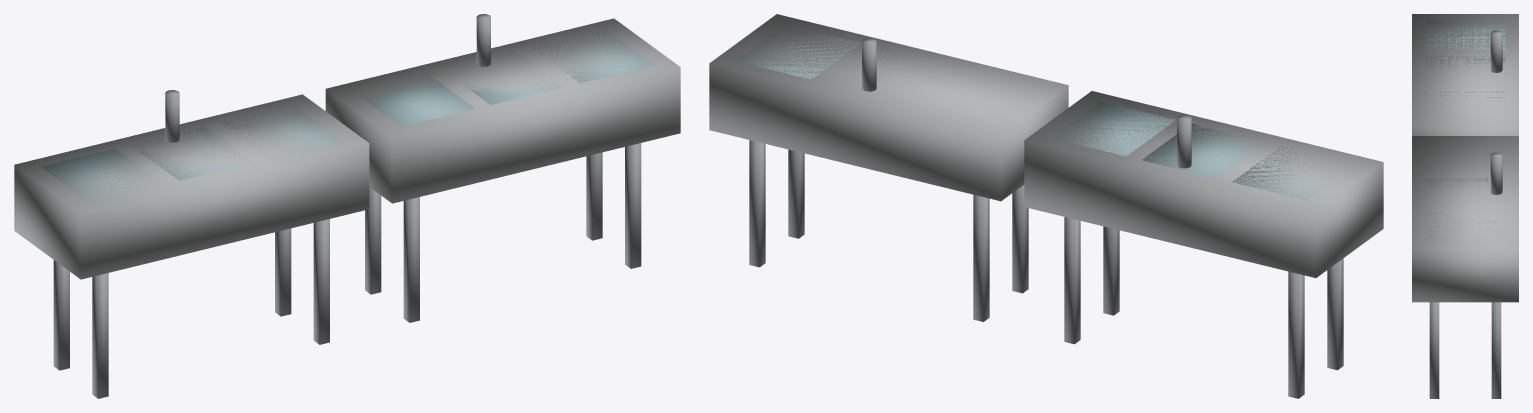
File: three_bay_sink__cluster.glb
3 renders of one model, left to right at view 1: azimuth 30°, elevation 25°; view 2: azimuth 150°, elevation 25°; view 3: azimuth 270°, elevation 25°, orthographic. The views are drawn at different scales.
Visible parts, largest first — view 1: world; view 2: world; view 3: world.
Part boxes in pixels (bbox=[...]): world: bbox=[14, 14, 680, 398]; world: bbox=[709, 14, 1383, 398]; world: bbox=[1412, 14, 1518, 398].
Size of the model in its own units: 3.22 by 1.27 by 0.62.
